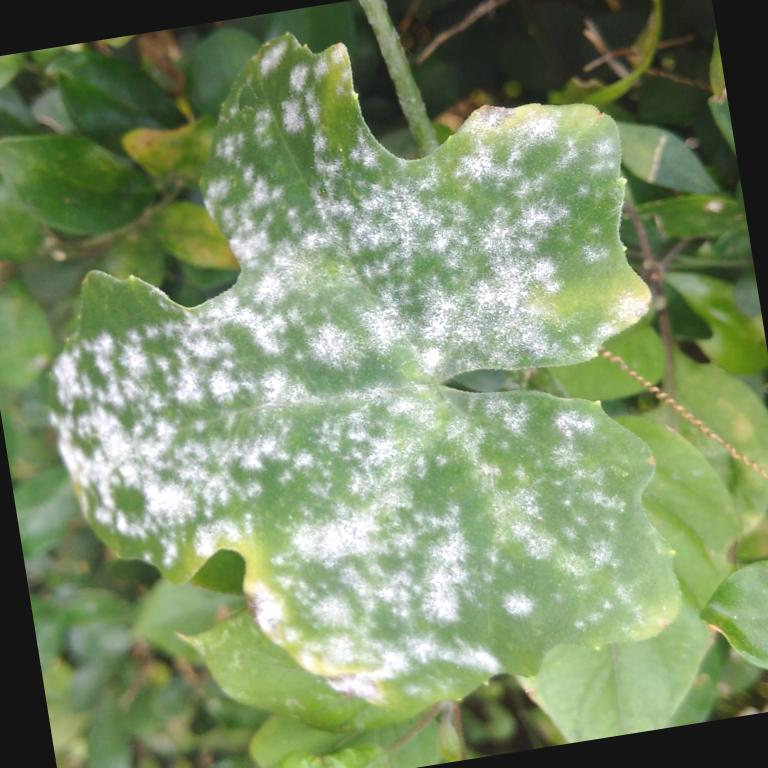powdery-mildew: (310, 151, 578, 377), (84, 300, 336, 522), (341, 441, 497, 668)
